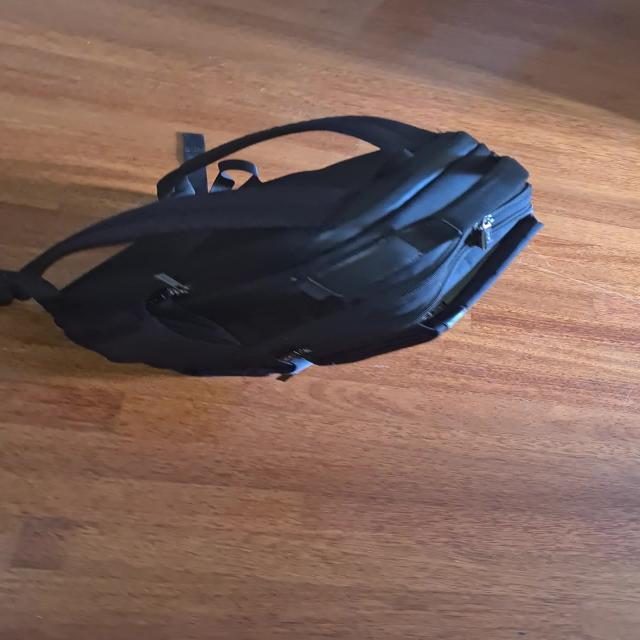backpack: (0, 105, 558, 377)
